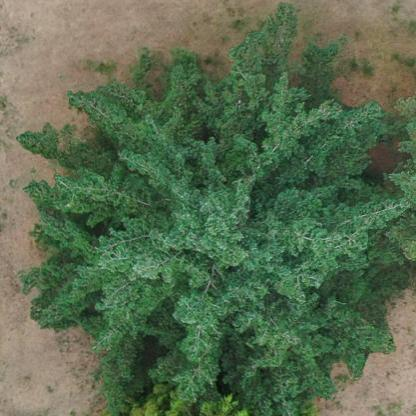Coniferous Tree: (18, 34, 416, 397)
